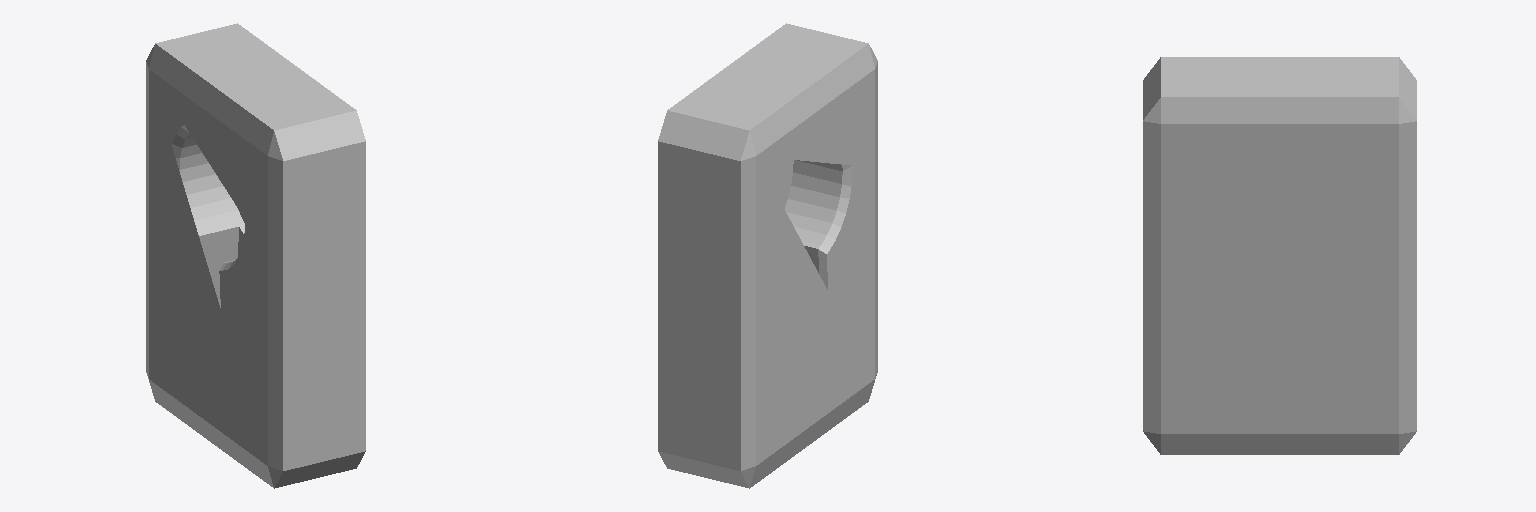
Rendered from lock 1.obj.
The picture shows the model from 3 angles: view 1: azimuth 30°, elevation 25°; view 2: azimuth 150°, elevation 25°; view 3: azimuth 270°, elevation 25°; orthographic projection.
Parts seen in each view (by area): view 1: Cube; view 2: Cube; view 3: Cube.
Part boxes in pixels (left/top/right/bottom): Cube: left=146, top=23, right=365, bottom=488; Cube: left=658, top=23, right=877, bottom=488; Cube: left=1143, top=57, right=1416, bottom=454.
Bounding box in the file's own units: 0.1909 × 0.6848 × 0.4765.